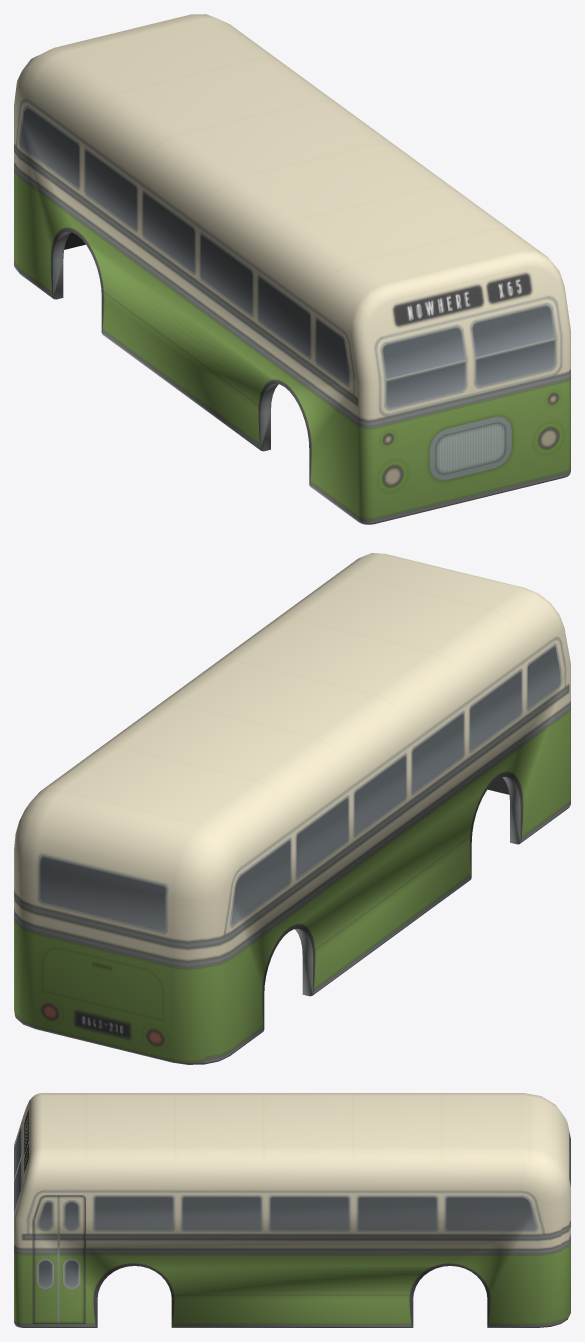
File: bus_body_green.glb
3 renders of one model, top to bottom at view 1: azimuth 30°, elevation 25°; view 2: azimuth 150°, elevation 25°; view 3: azimuth 270°, elevation 25°, orthographic. The views are drawn at different scales.
Visible parts, largest first — view 1: bus; view 2: bus; view 3: bus.
Boxes of the visible parts, box(x1,y1,x2,y2) form: bus: box(14, 14, 570, 524); bus: box(14, 553, 570, 1064); bus: box(14, 1093, 570, 1327).
Size of the model in its own units: 2 by 2 by 6.
Materials: 1 (1 with a texture image).
